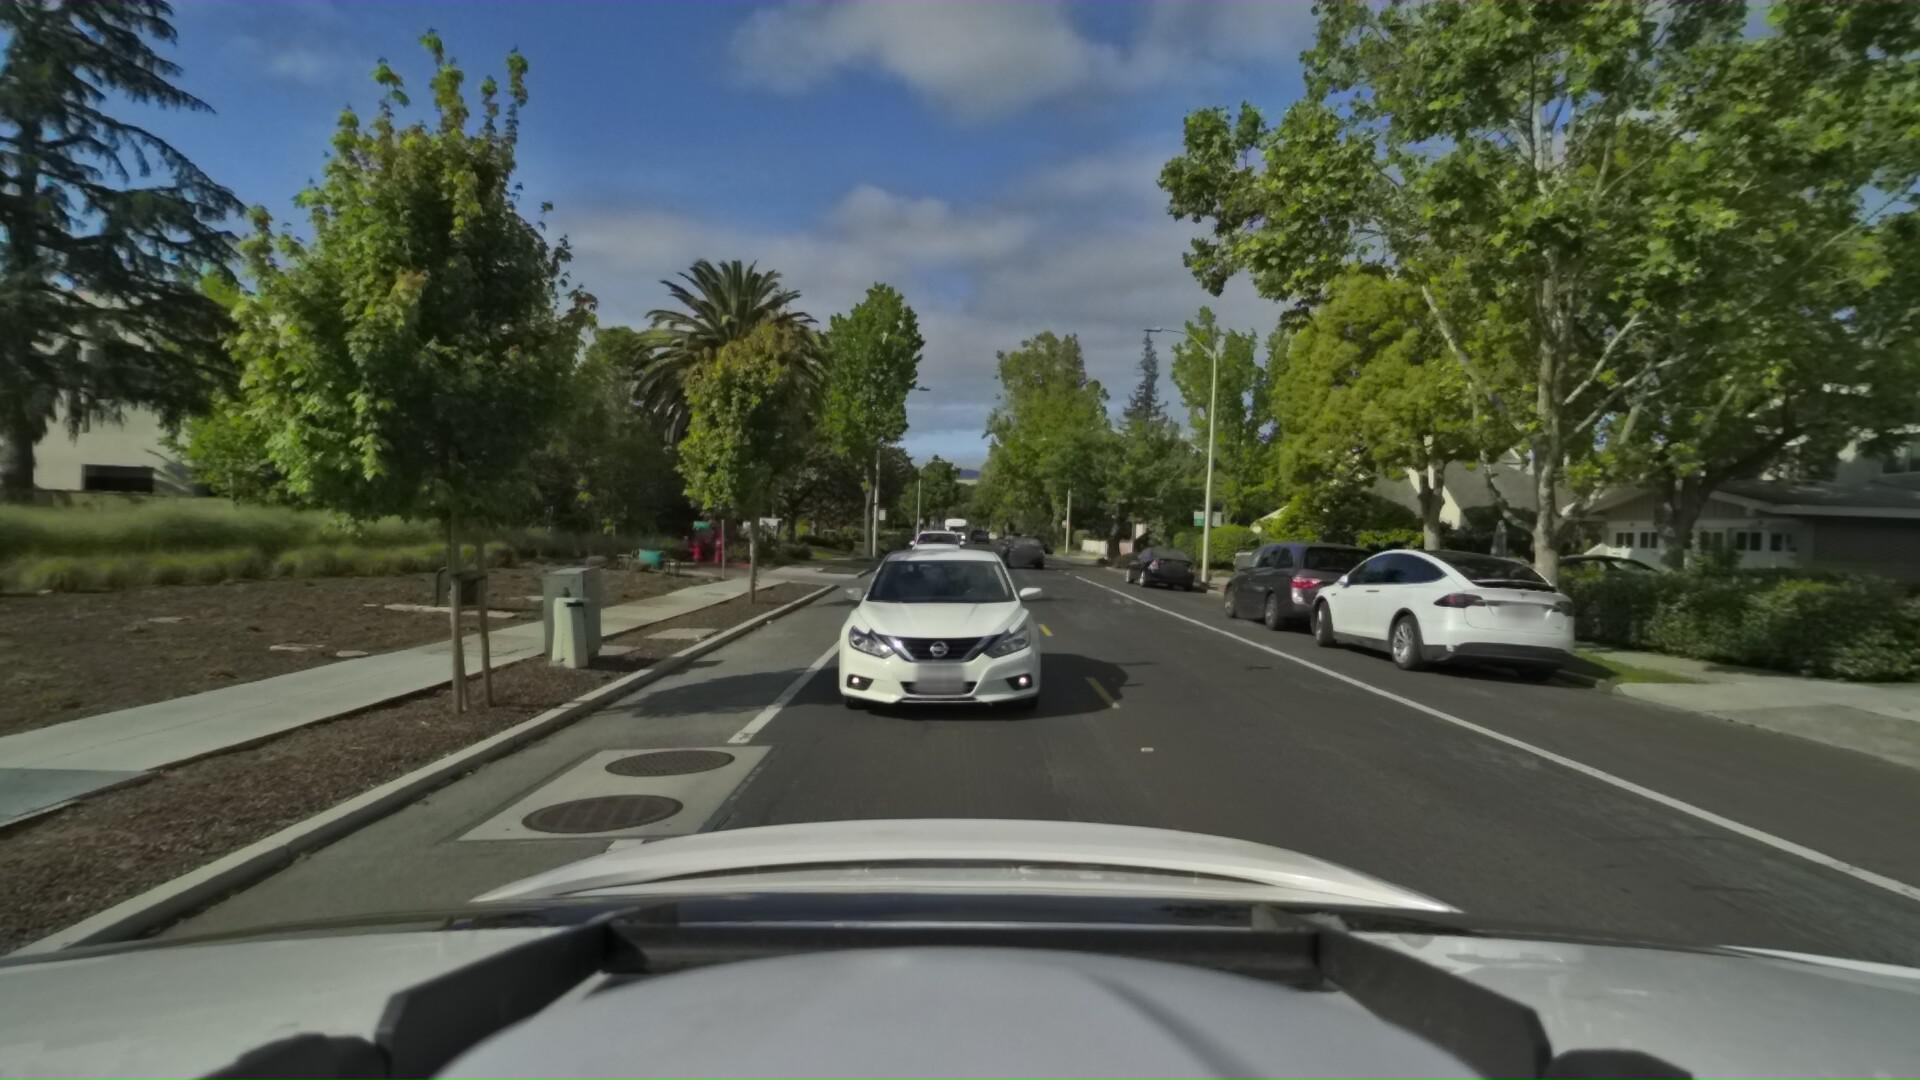car: (812, 546, 1069, 757), (1288, 547, 1596, 696), (1208, 541, 1394, 655), (1478, 550, 1708, 626), (1225, 545, 1341, 585), (1120, 547, 1200, 597), (901, 527, 961, 582), (1000, 535, 1046, 571), (1023, 534, 1048, 556)
